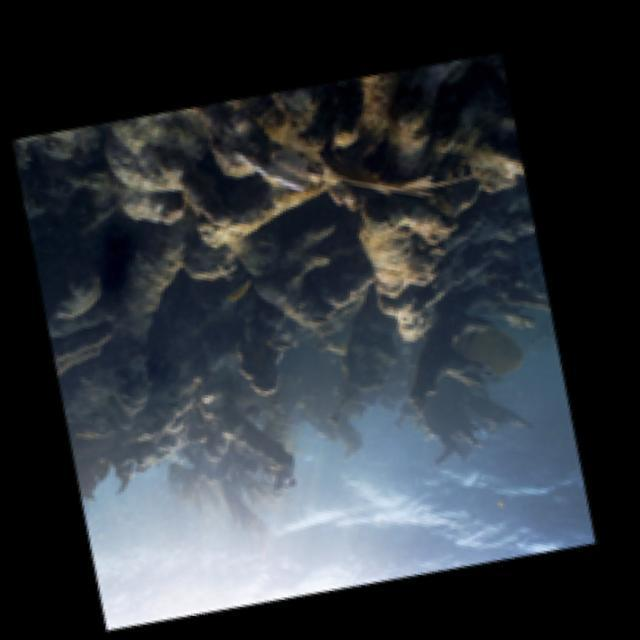Dead Coral: (289, 122, 536, 393), (76, 279, 331, 514), (112, 104, 392, 310)
